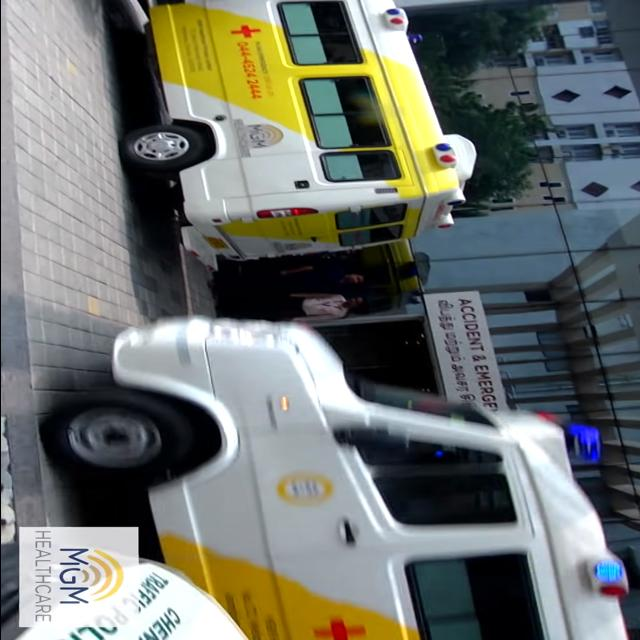emergency-vehicles: (58, 295, 640, 640), (114, 0, 485, 275)
